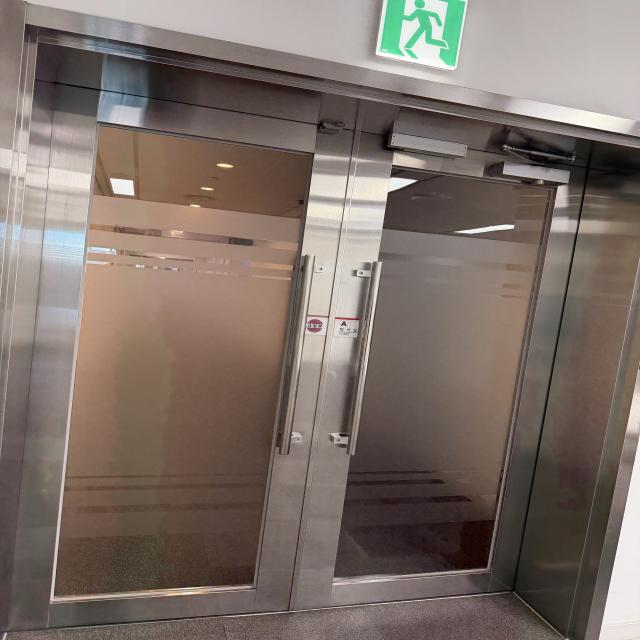rear_door: (5, 88, 592, 631)
